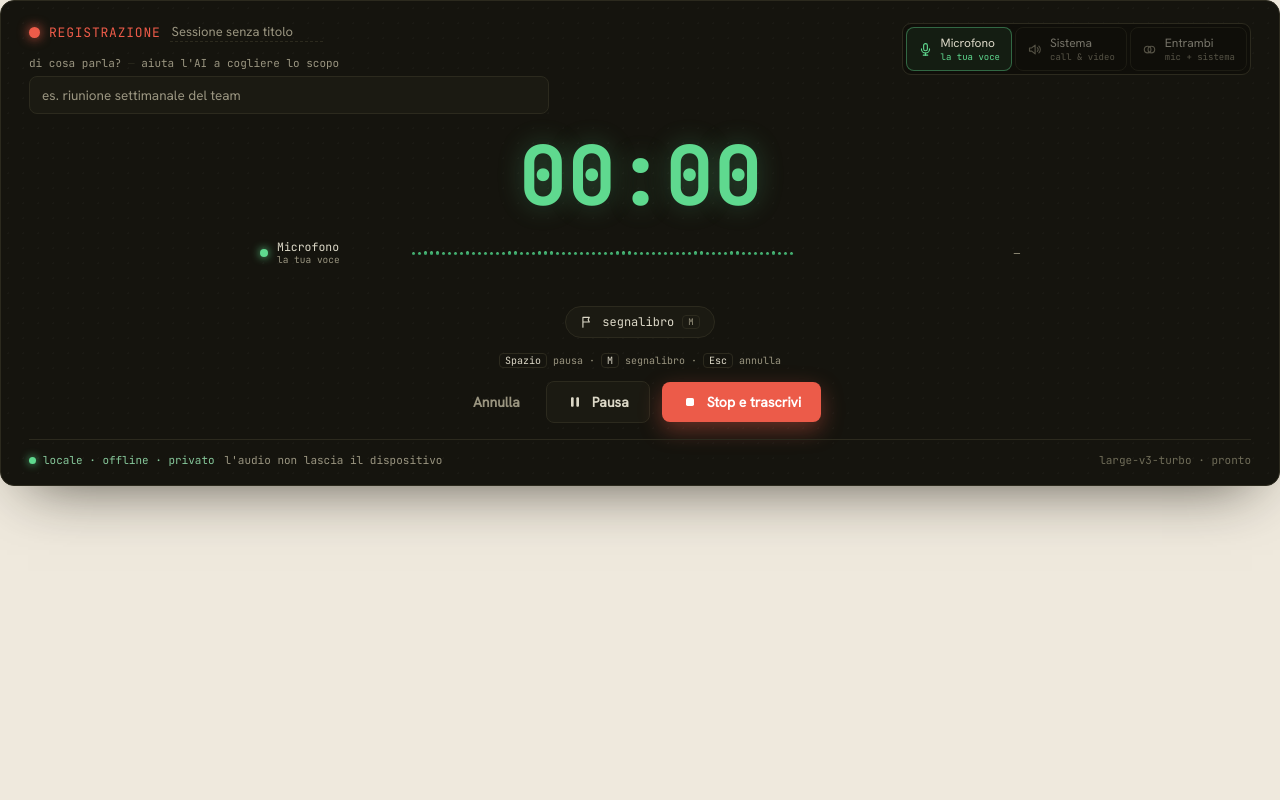
Test: ScreenLive › da pausa, clicca Riprendi → chiama resumeRecording e torna 'Pausa'
What coordinates should you click on to do the following:
click the button "Pausa"
I would click on:
 (598, 402)
Its box is [546,381,650,423].
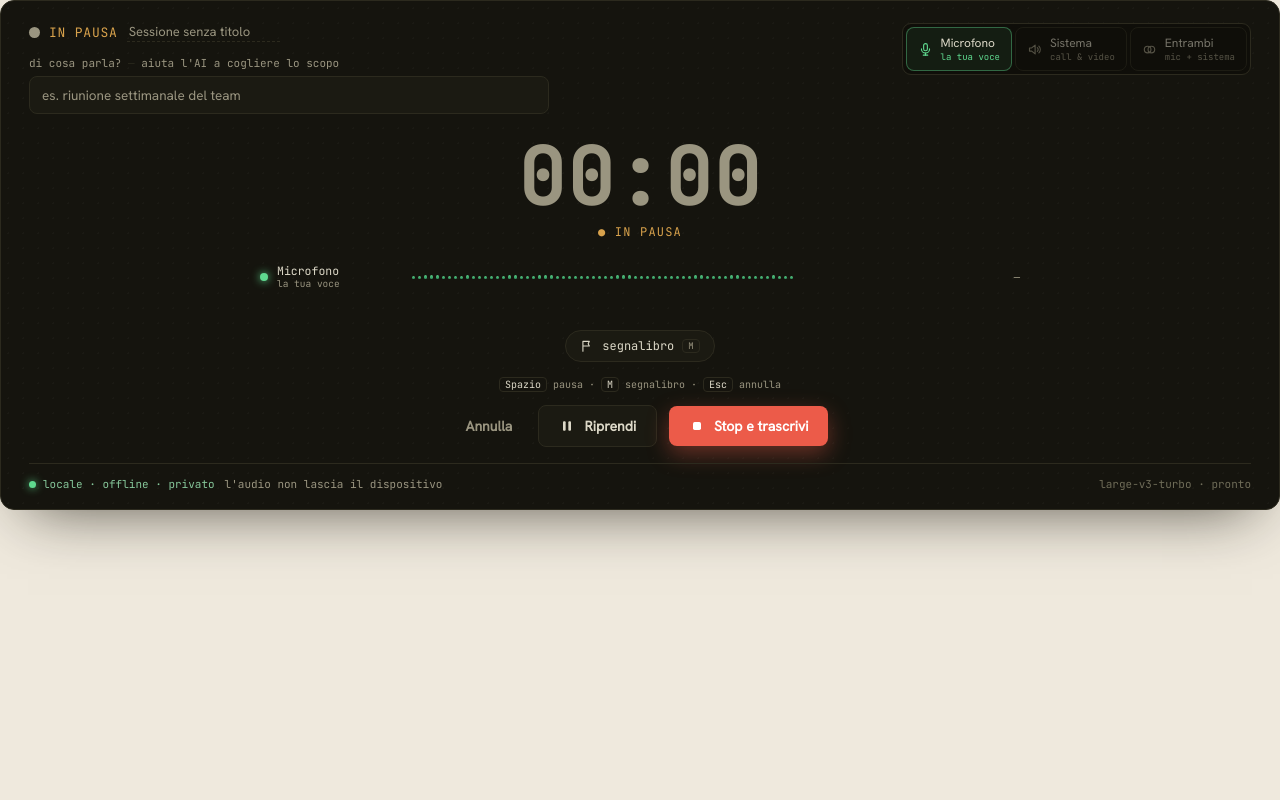
What coordinates should you click on to do the following:
click the button "Riprendi"
I would click on:
 (598, 426)
Its box is [538,405,657,447].
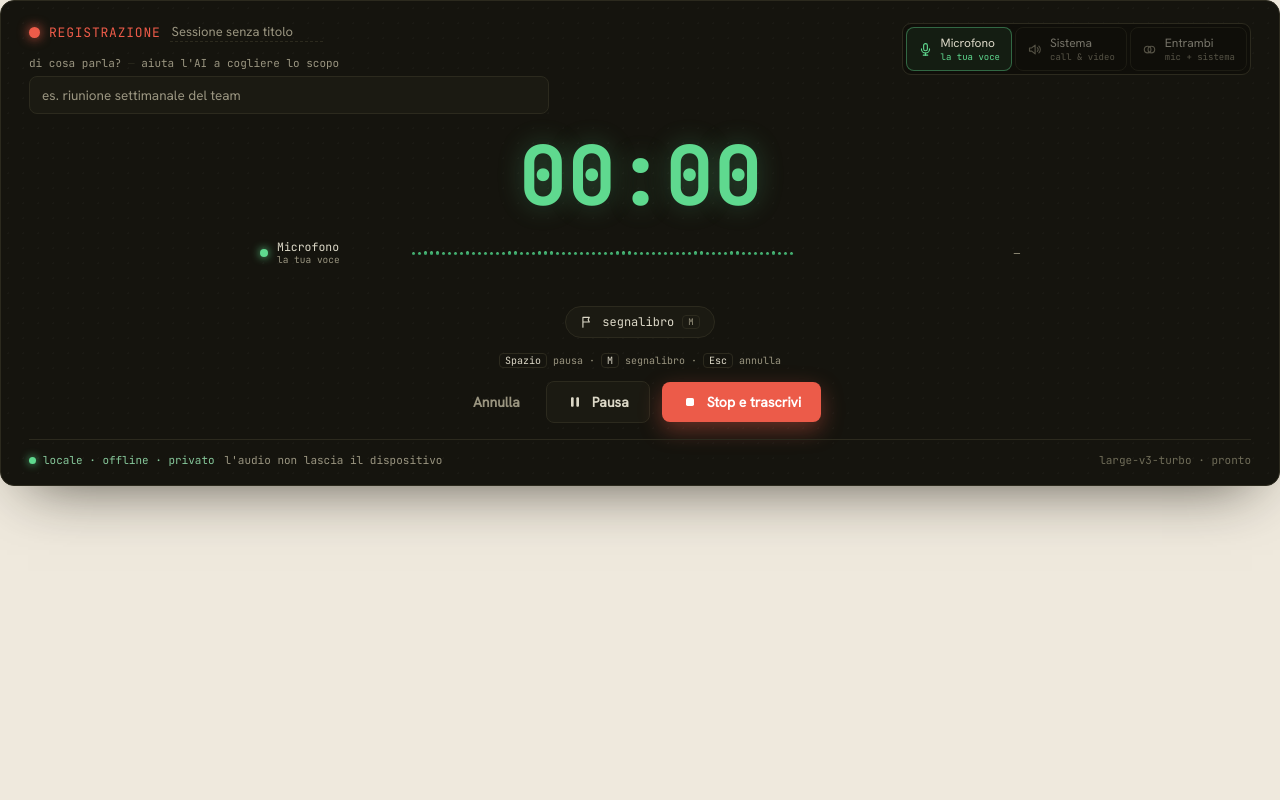
Check: the button "Pausa" is shown, box [546,381,650,423]
